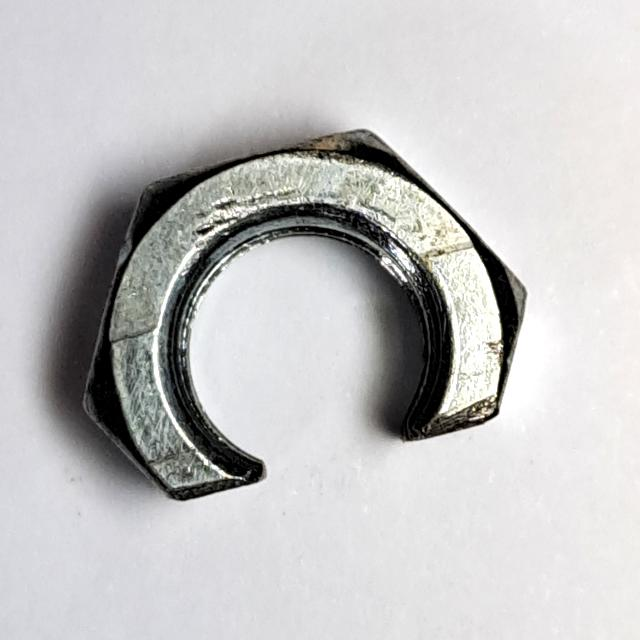Fracture: (67, 114, 549, 535)
